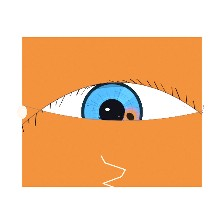foreign_body_visible: (108, 99, 152, 134)
